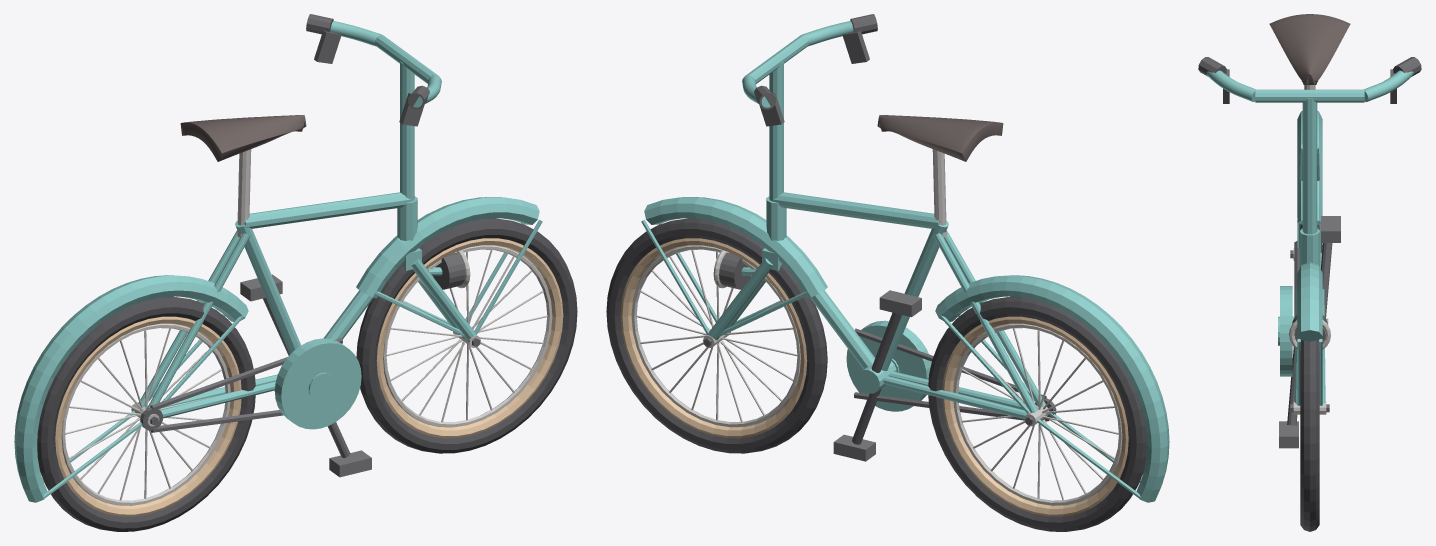
Rendered from 07-bicycle.glb.
3 views of the same model, side by side, from view 1: azimuth 30°, elevation 25°; view 2: azimuth 150°, elevation 25°; view 3: azimuth 270°, elevation 25° (orthographic).
Visible parts, largest first — view 1: WheelF_Tire, WheelR_Tire, FenderR, Chainguard, WheelF_Sidewall, WheelR_Sidewall, FenderF, Saddle, WheelF_Rim, Frame_TopTube, WheelR_Rim, Frame_SeatTube (+13 smaller); view 2: WheelF_Tire, WheelR_Tire, FenderR, WheelF_Sidewall, WheelR_Sidewall, FenderF, Saddle, Chainguard, WheelR_Rim, WheelF_Rim, Frame_TopTube, Stem (+16 smaller); view 3: WheelF_Tire, Saddle, Stem, FenderF, Bar_Cross, FenderR, Chainguard, Frame_HeadTube, Bar_Sweep_L, Bar_Sweep_R, Pedal_L, Pedal_R (+8 smaller).
Part boxes in pixels (left/top/right/bottom): WheelF_Tire: left=356, top=218, right=577, bottom=453; WheelR_Tire: left=37, top=296, right=255, bottom=531; FenderR: left=14, top=275, right=248, bottom=502; Chainguard: left=274, top=338, right=361, bottom=429; WheelF_Sidewall: left=376, top=238, right=563, bottom=438; WheelR_Sidewall: left=55, top=316, right=241, bottom=516; FenderF: left=356, top=197, right=539, bottom=298; Saddle: left=180, top=115, right=306, bottom=161; WheelF_Rim: left=383, top=245, right=552, bottom=427; Frame_TopTube: left=244, top=192, right=411, bottom=228; WheelR_Rim: left=61, top=323, right=230, bottom=505; Frame_SeatTube: left=235, top=220, right=301, bottom=354; WheelF_Tire: left=606, top=218, right=827, bottom=453; WheelR_Tire: left=928, top=296, right=1146, bottom=531; FenderR: left=935, top=275, right=1169, bottom=502; WheelF_Sidewall: left=620, top=238, right=807, bottom=438; WheelR_Sidewall: left=942, top=316, right=1128, bottom=516; FenderF: left=644, top=197, right=827, bottom=298; Saddle: left=877, top=115, right=1003, bottom=161; Chainguard: left=846, top=320, right=931, bottom=411; WheelR_Rim: left=953, top=323, right=1122, bottom=505; WheelF_Rim: left=631, top=245, right=800, bottom=427; Frame_TopTube: left=772, top=192, right=939, bottom=228; Stem: left=769, top=61, right=783, bottom=201; WheelF_Tire: left=1300, top=340, right=1319, bottom=531; Saddle: left=1269, top=14, right=1350, bottom=84; Stem: left=1302, top=98, right=1317, bottom=234; FenderF: left=1297, top=262, right=1322, bottom=341; Bar_Cross: left=1255, top=89, right=1364, bottom=102; FenderR: left=1297, top=111, right=1322, bottom=224; Chainguard: left=1280, top=286, right=1292, bottom=376; Frame_HeadTube: left=1299, top=228, right=1320, bottom=267; Bar_Sweep_L: left=1363, top=70, right=1413, bottom=101; Bar_Sweep_R: left=1206, top=70, right=1256, bottom=101; Pedal_L: left=1321, top=216, right=1340, bottom=242; Pedal_R: left=1279, top=421, right=1298, bottom=448.
Size of the model in its own units: 1.74 by 1.25 by 0.6134.
